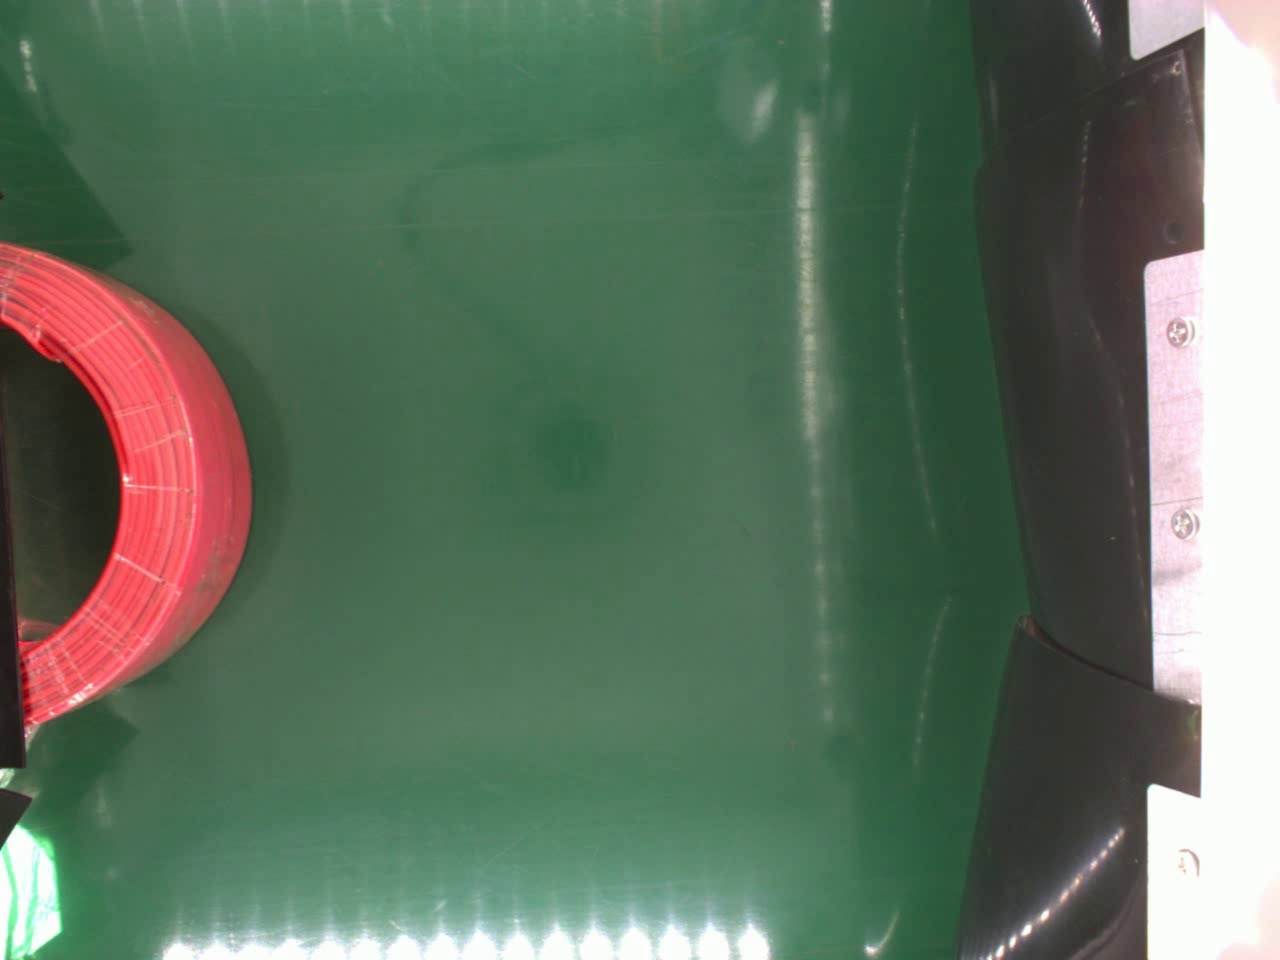red: (0, 241, 256, 731)
